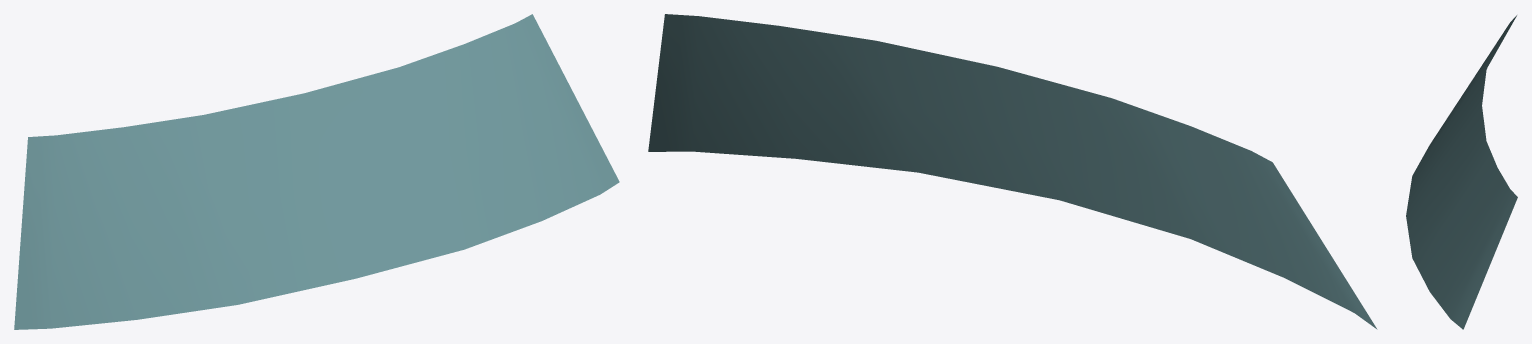
File: Offroad_2_Window_Tessellate_F.fbx
3 views of the same model, side by side, from view 1: azimuth 30°, elevation 25°; view 2: azimuth 150°, elevation 25°; view 3: azimuth 270°, elevation 25° (orthographic). The views are drawn at different scales.
Parts seen in each view (by area): view 1: Offroad_2_Window_Tessellate_F; view 2: Offroad_2_Window_Tessellate_F; view 3: Offroad_2_Window_Tessellate_F.
Boxes of the visible parts, x1,y1,x2,y2 form: Offroad_2_Window_Tessellate_F: [14, 14, 619, 329]; Offroad_2_Window_Tessellate_F: [648, 14, 1377, 329]; Offroad_2_Window_Tessellate_F: [1406, 15, 1517, 329].
Bounding box in the file's own units: 168 × 40.67 × 36.08.
